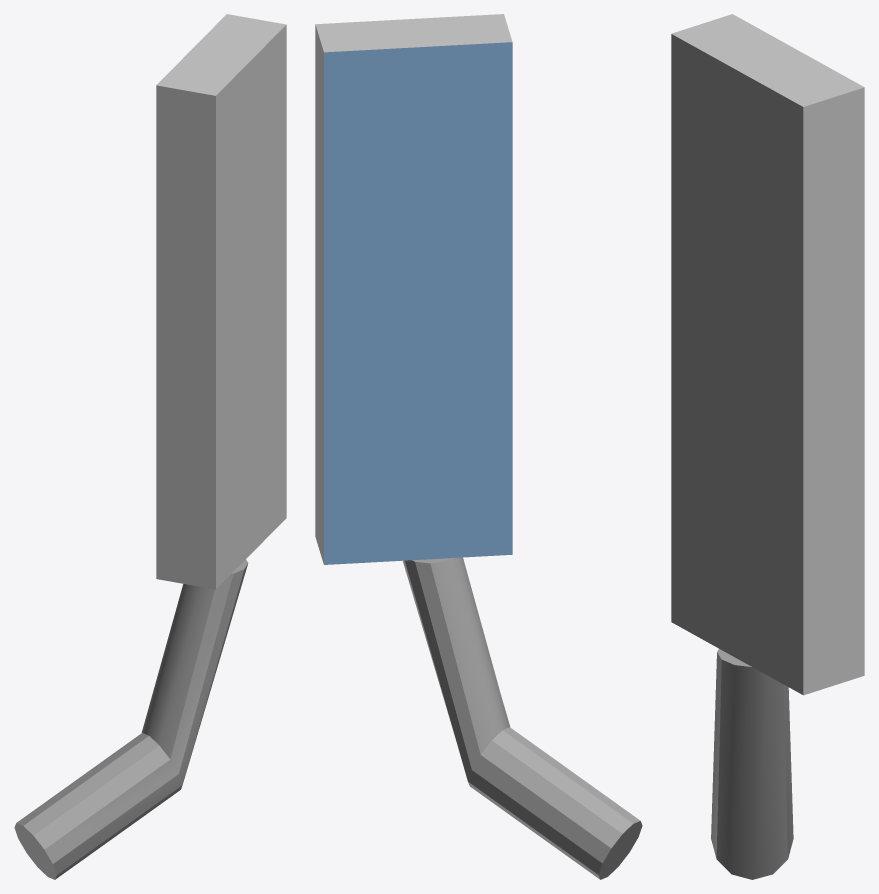
The model's file is leftMirror.fbx.
3 renders of one model, left to right at view 1: azimuth 30°, elevation 25°; view 2: azimuth 150°, elevation 25°; view 3: azimuth 270°, elevation 25°, orthographic. The views are drawn at different scales.
Visible parts, largest first — view 1: pCube5, pCylinder9; view 2: pCube5, pCylinder9; view 3: pCube5, pCylinder9.
Boxes of the visible parts, box(x1,y1,x2,y2) form: pCube5: box(156, 14, 286, 589); pCylinder9: box(14, 559, 248, 879); pCube5: box(315, 14, 512, 564); pCylinder9: box(403, 557, 642, 879); pCube5: box(671, 14, 864, 695); pCylinder9: box(711, 649, 793, 879).
Size of the model in its own units: 3.91 by 10.14 by 1.93.
2 materials, 1 textured.
